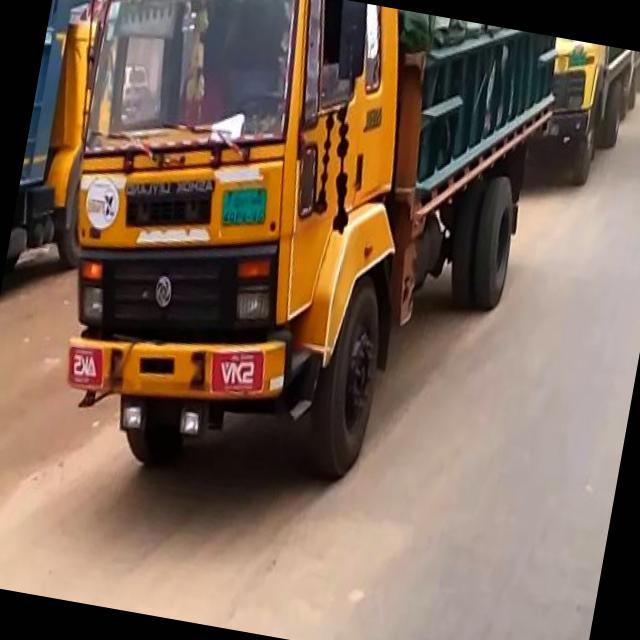truck: (18, 0, 572, 527), (12, 8, 118, 278), (534, 37, 640, 193)
